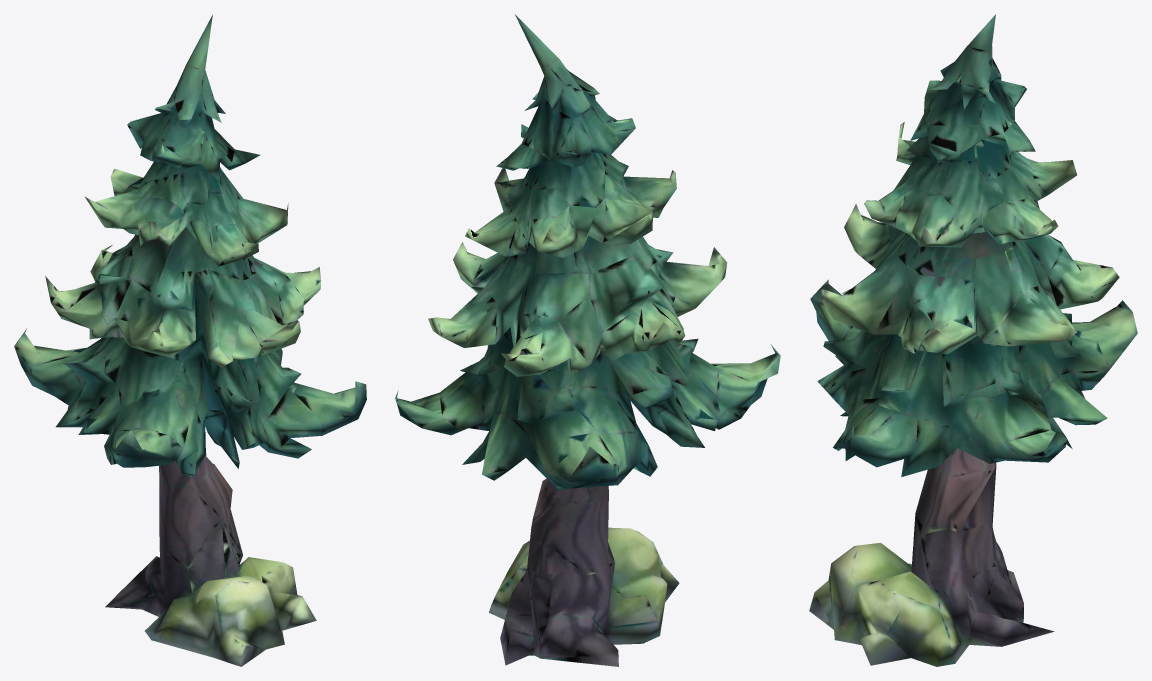
The model's file is tree1.glb.
3 views of the same model, side by side, from view 1: azimuth 30°, elevation 25°; view 2: azimuth 150°, elevation 25°; view 3: azimuth 270°, elevation 25° (orthographic). The views are drawn at different scales.
Bounding box in the file's own units: 0.4473 × 0.9517 × 0.4517.
1 material, 1 textured.
